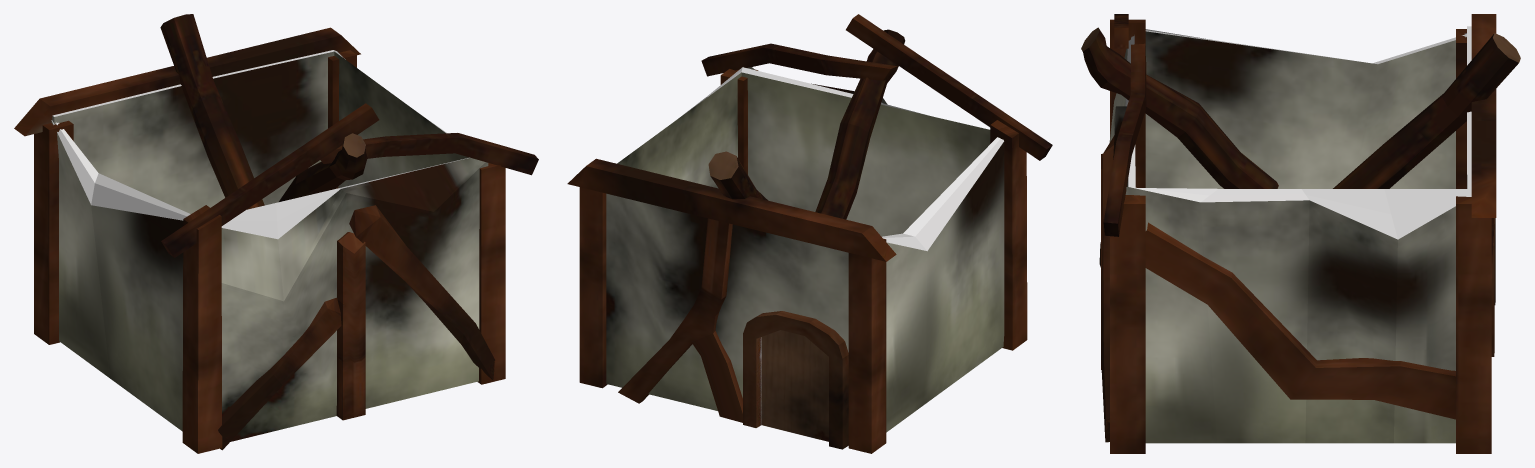
Rendered from casa2.fbx.
3 renders of one model, left to right at view 1: azimuth 30°, elevation 25°; view 2: azimuth 150°, elevation 25°; view 3: azimuth 270°, elevation 25°, orthographic. The views are drawn at different scales.
Parts seen in each view (by area): view 1: LOD_0; view 2: LOD_0; view 3: LOD_0.
Boxes of the visible parts, x1,y1,x2,y2 form: LOD_0: [14, 14, 538, 453]; LOD_0: [567, 14, 1052, 453]; LOD_0: [1081, 14, 1520, 453].
Size of what is drawn, in the model's own units: 208 by 168 by 185.
